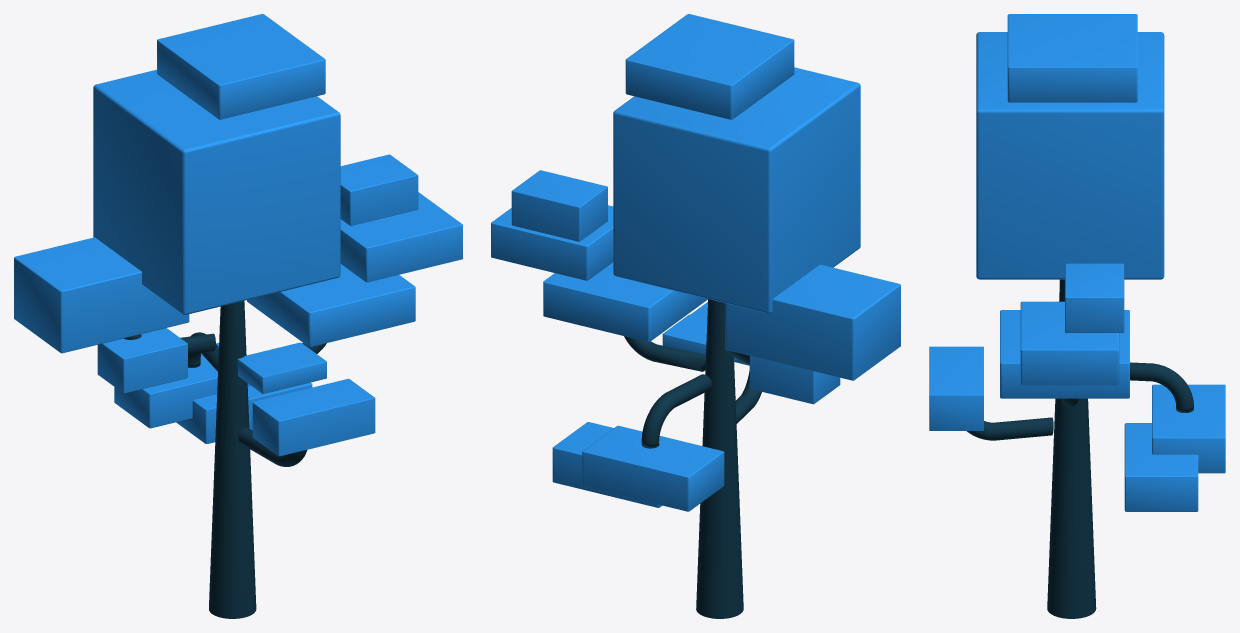
Rendered from square_tree_1.glb.
The picture shows the model from 3 angles, left to right: view 1: azimuth 30°, elevation 25°; view 2: azimuth 150°, elevation 25°; view 3: azimuth 270°, elevation 25°; orthographic projection. The views are drawn at different scales.
Visible parts, largest first — view 1: Cube_Tree.001; view 2: Cube_Tree.001; view 3: Cube_Tree.001.
Part boxes in pixels (bbox=[...]): Cube_Tree.001: bbox=[14, 14, 462, 618]; Cube_Tree.001: bbox=[491, 14, 900, 618]; Cube_Tree.001: bbox=[929, 14, 1225, 618].
Size of the model in its own units: 13.72 by 19.07 by 8.94.
